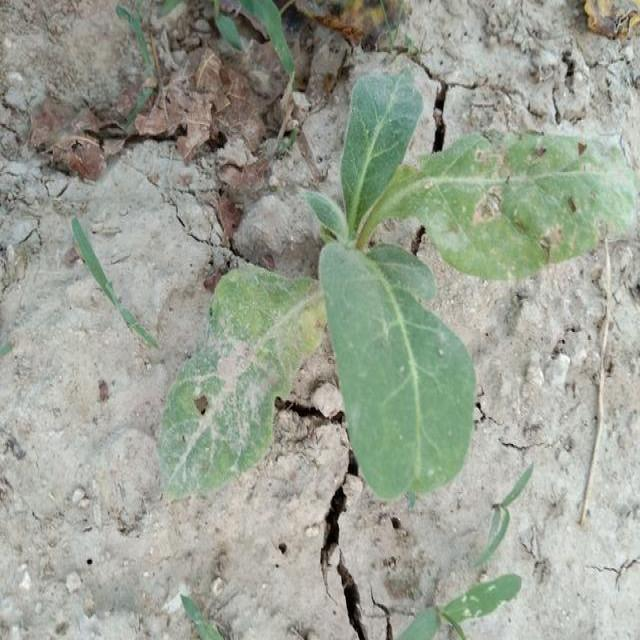crop: (154, 76, 612, 520)
